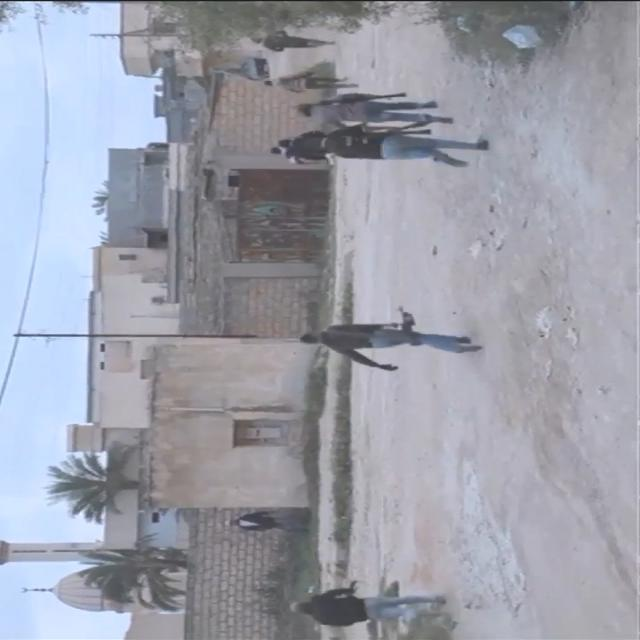long weapon: (299, 83, 412, 112), (388, 296, 441, 354)
